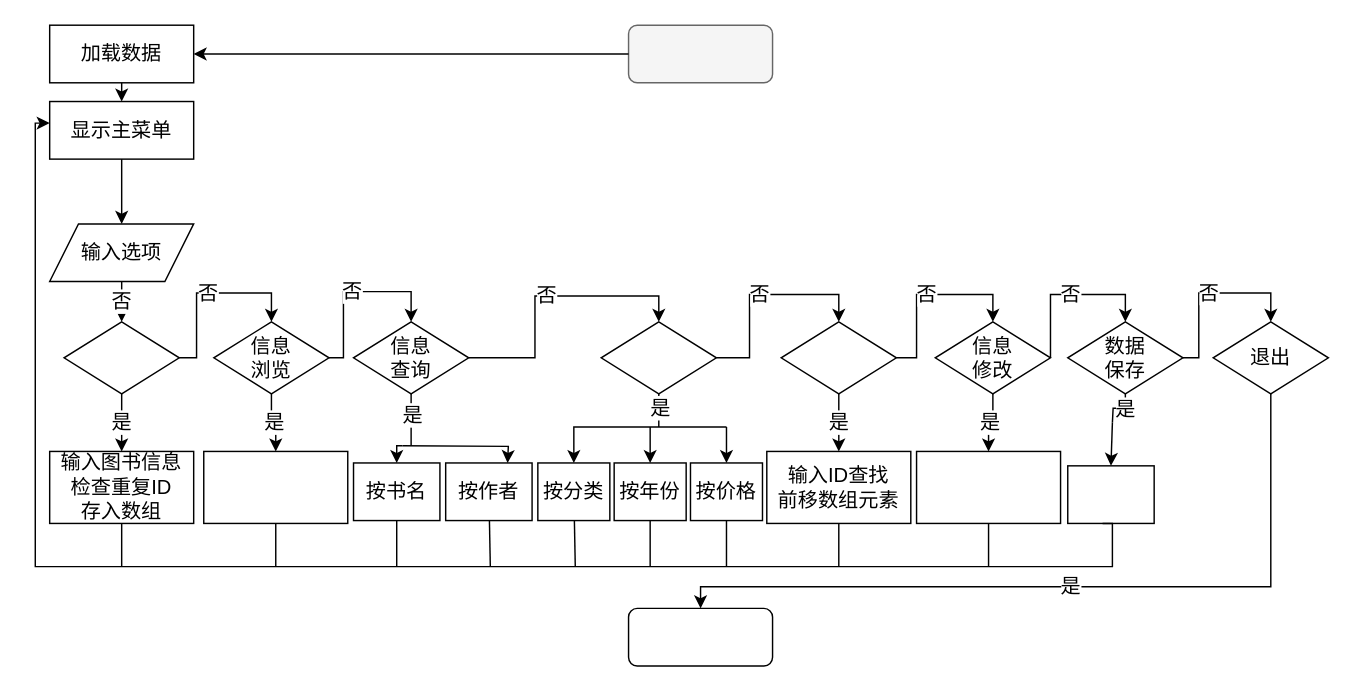
Some shapes in this 1354 by 691 pixel diagram are drawn without their labels. Each missing label, with the box of its shape:
保存JSON: (1066, 464, 1154, 523)
信息 删除: (780, 320, 896, 394)
信息 录入: (63, 320, 179, 394)
图书 排序: (600, 320, 716, 394)
图书信息 管理系统: (627, 24, 773, 83)
打印表头 遍历数组输出: (202, 450, 348, 523)
结束: (627, 607, 773, 666)
输入ID查找 输入新字段: (915, 450, 1061, 523)
